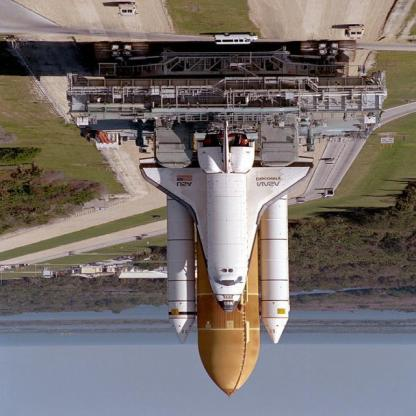MIL_TBM: (255, 192, 292, 351), (163, 194, 197, 342)
